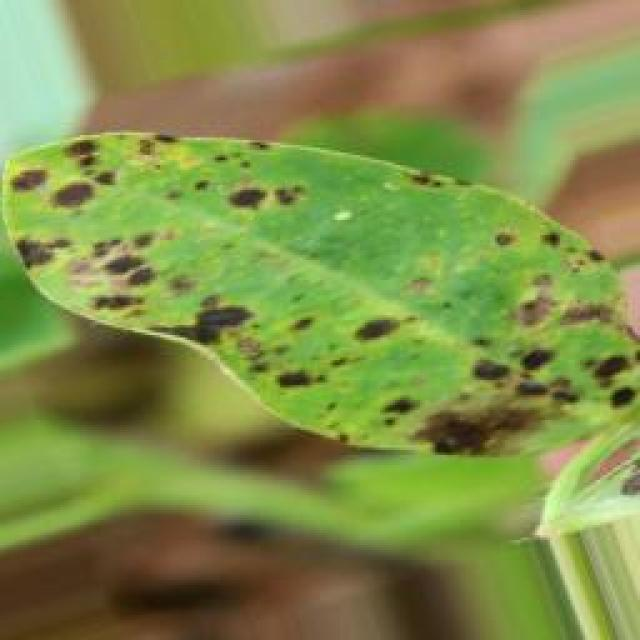Yellowish: (0, 82, 640, 540)
